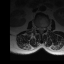CCS_normal: (40, 26, 42, 33)
LFS_normal: (44, 26, 46, 32)
LLS_normal: (42, 26, 44, 32)
RFS_normal: (36, 25, 38, 31)
RLS_normal: (38, 26, 40, 32)
